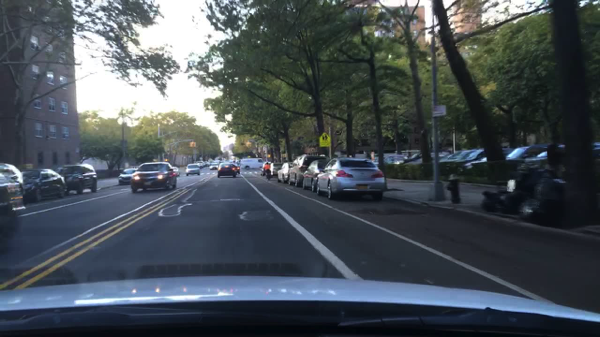car: (316, 157, 387, 201), (19, 168, 68, 203), (55, 163, 98, 196), (132, 162, 177, 193), (288, 154, 329, 188), (0, 163, 23, 212), (514, 145, 567, 164), (301, 159, 330, 190), (400, 149, 453, 164), (439, 149, 475, 163), (457, 149, 486, 164), (506, 147, 530, 162), (217, 162, 238, 179), (118, 168, 138, 185), (239, 157, 264, 170), (277, 162, 292, 183), (382, 154, 406, 166), (268, 162, 284, 178), (260, 162, 274, 176), (185, 163, 200, 176), (501, 147, 513, 160), (591, 141, 599, 159), (209, 160, 220, 170), (172, 166, 181, 177), (234, 164, 242, 174), (196, 160, 204, 169), (370, 160, 381, 166), (204, 161, 211, 168), (201, 161, 207, 168), (220, 159, 227, 164), (228, 159, 234, 164), (233, 160, 240, 164)
traffic light: (189, 141, 195, 148), (246, 141, 252, 147), (164, 157, 171, 162), (193, 142, 198, 148), (266, 154, 272, 158)
traffic sign: (431, 103, 447, 118), (318, 131, 332, 147)
